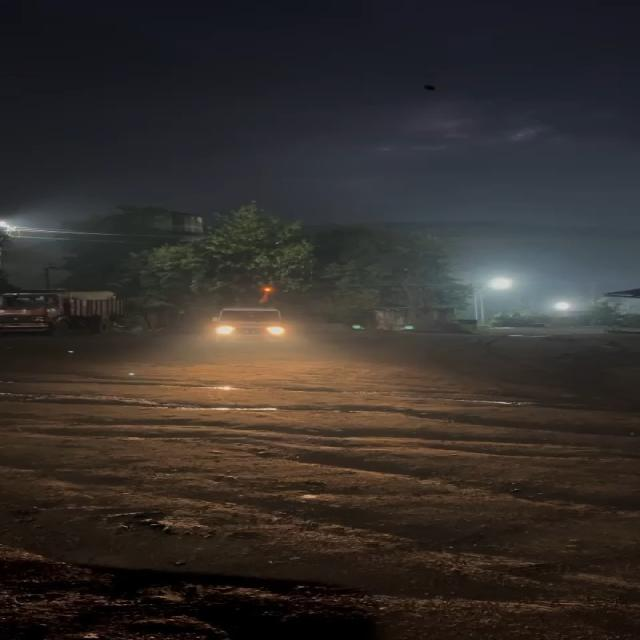light_vehicle: (212, 305, 292, 347)
